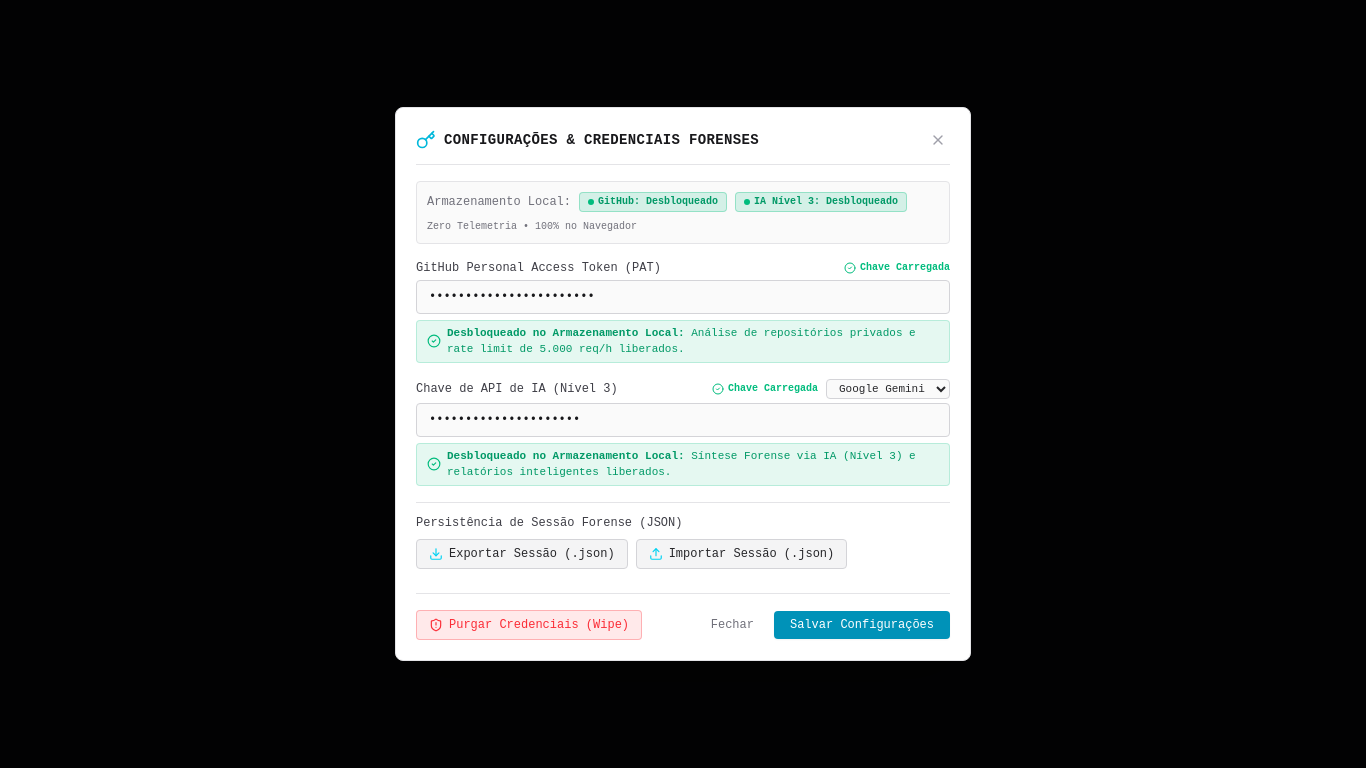
Test: SettingsModal Wipe Credentials Interaction › cancels purge when clicking Cancelar
// Click wipe to enter confirmation
Click the button "Purgar Credenciais (Wipe)" at point(529, 625), box [416,610,642,640]
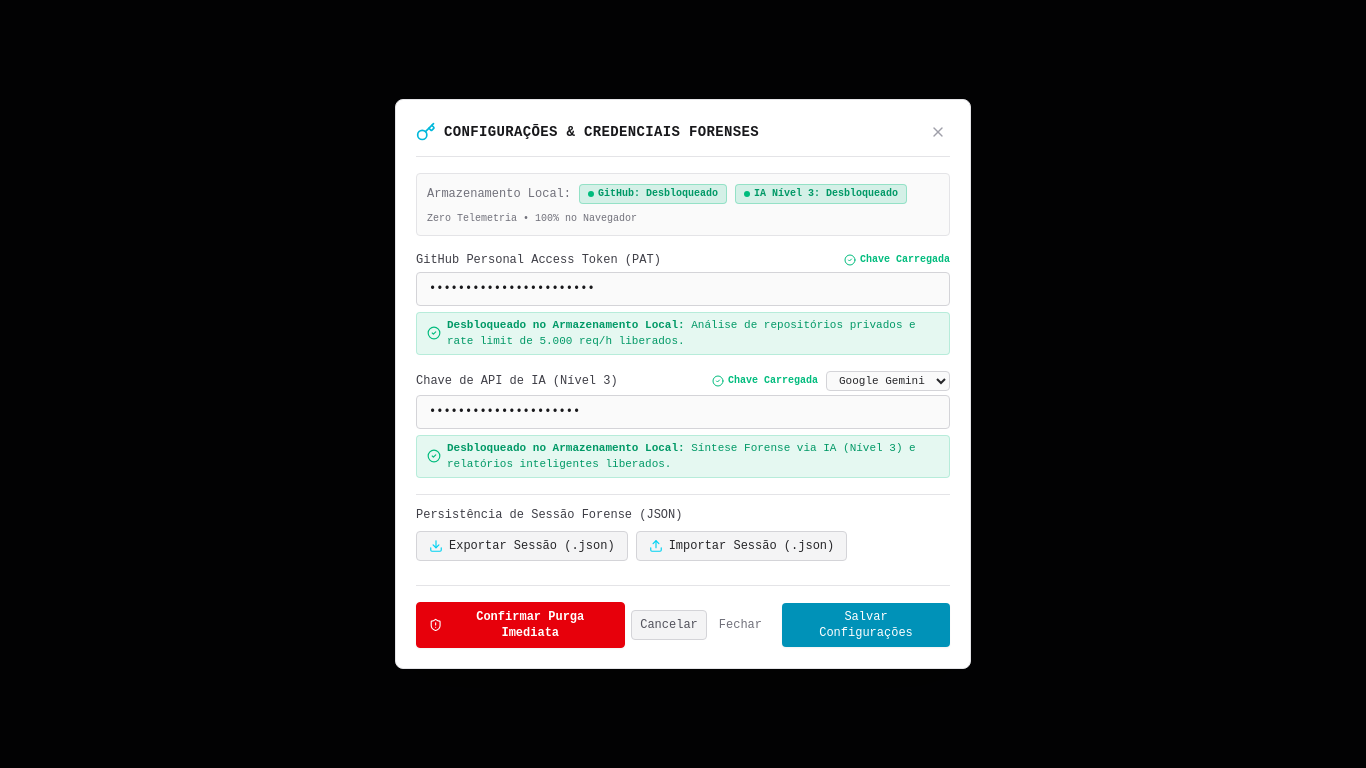
Expected: the button "Confirmar Purga Imediata" is shown, [416,602,625,648]
// Click Cancelar
Click the button "Cancelar" at point(669, 625), box [631,610,707,640]
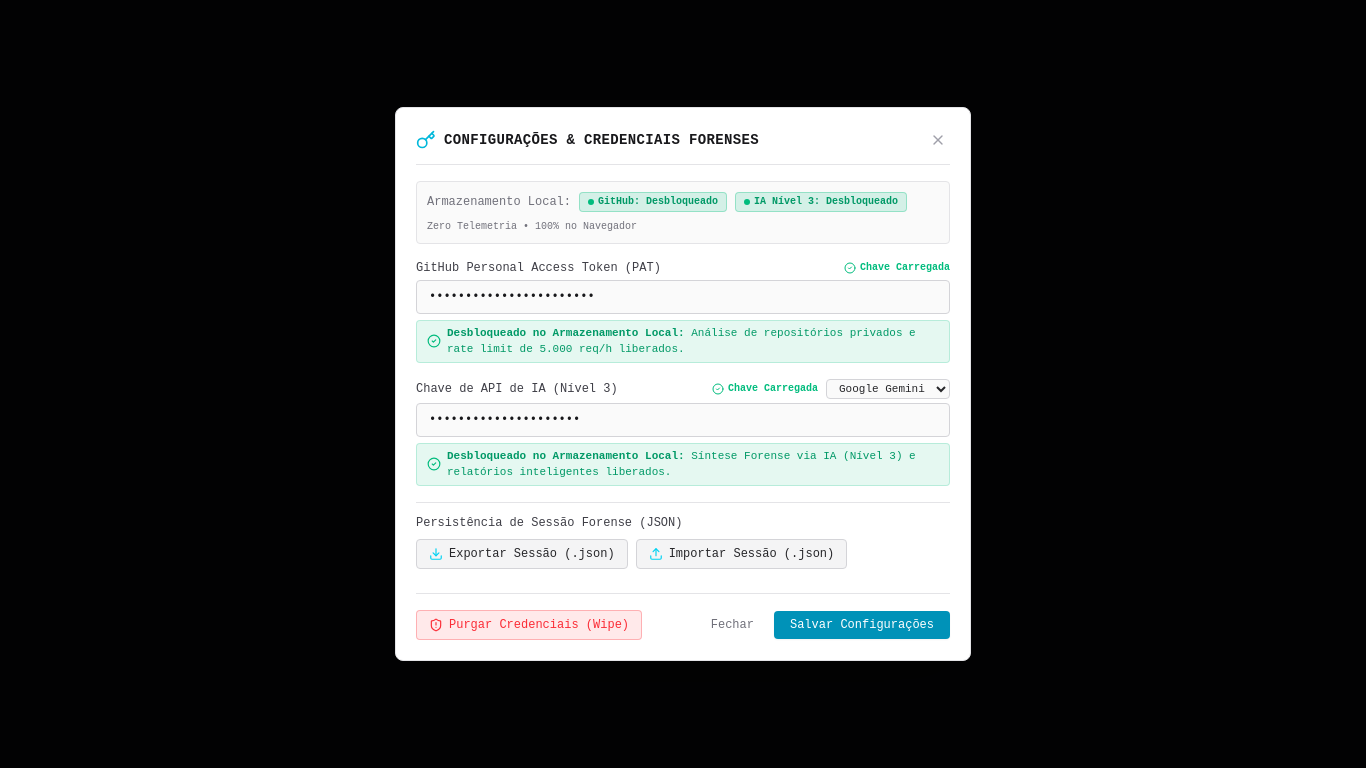
Expected: the button "Purgar Credenciais (Wipe)" is shown, [416,610,642,640]
